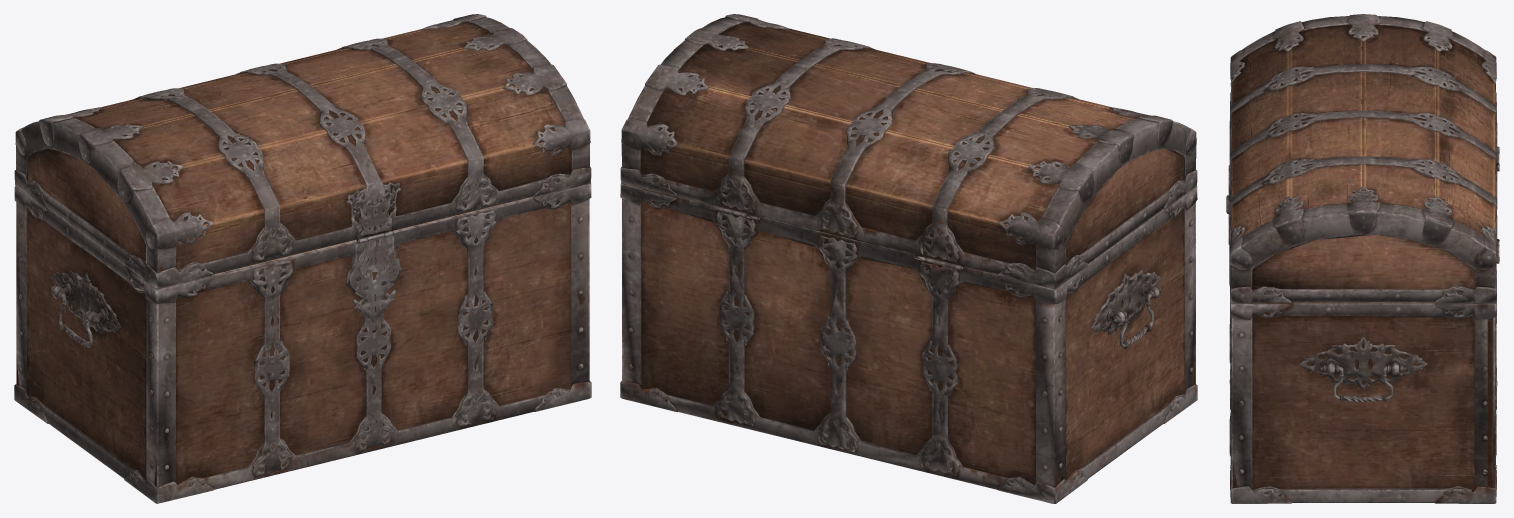
Rendered from treasure_chest.glb.
3 views of the same model, side by side, from view 1: azimuth 30°, elevation 25°; view 2: azimuth 150°, elevation 25°; view 3: azimuth 270°, elevation 25° (orthographic). The views are drawn at different scales.
Parts seen in each view (by area): view 1: treasure_chest_bottom, treasure_chest_lid, treasure_chest_lock, treasure_chest_handle_left; view 2: treasure_chest_bottom, treasure_chest_lid; view 3: treasure_chest_lid, treasure_chest_bottom, treasure_chest_handle_right.
Boxes of the visible parts, x1=… form: treasure_chest_bottom: x1=14, y1=183, x2=591, y2=503; treasure_chest_lid: x1=14, y1=14, x2=591, y2=288; treasure_chest_lock: x1=349, y1=233, x2=399, y2=322; treasure_chest_handle_left: x1=50, y1=285, x2=100, y2=348; treasure_chest_bottom: x1=620, y1=183, x2=1197, y2=503; treasure_chest_lid: x1=620, y1=14, x2=1197, y2=288; treasure_chest_lid: x1=1226, y1=14, x2=1499, y2=303; treasure_chest_bottom: x1=1229, y1=152, x2=1499, y2=503; treasure_chest_handle_right: x1=1320, y1=365, x2=1406, y2=402.
Bounding box in the file's own units: 0.959 × 0.6186 × 0.5226.
1 material, 1 textured.
